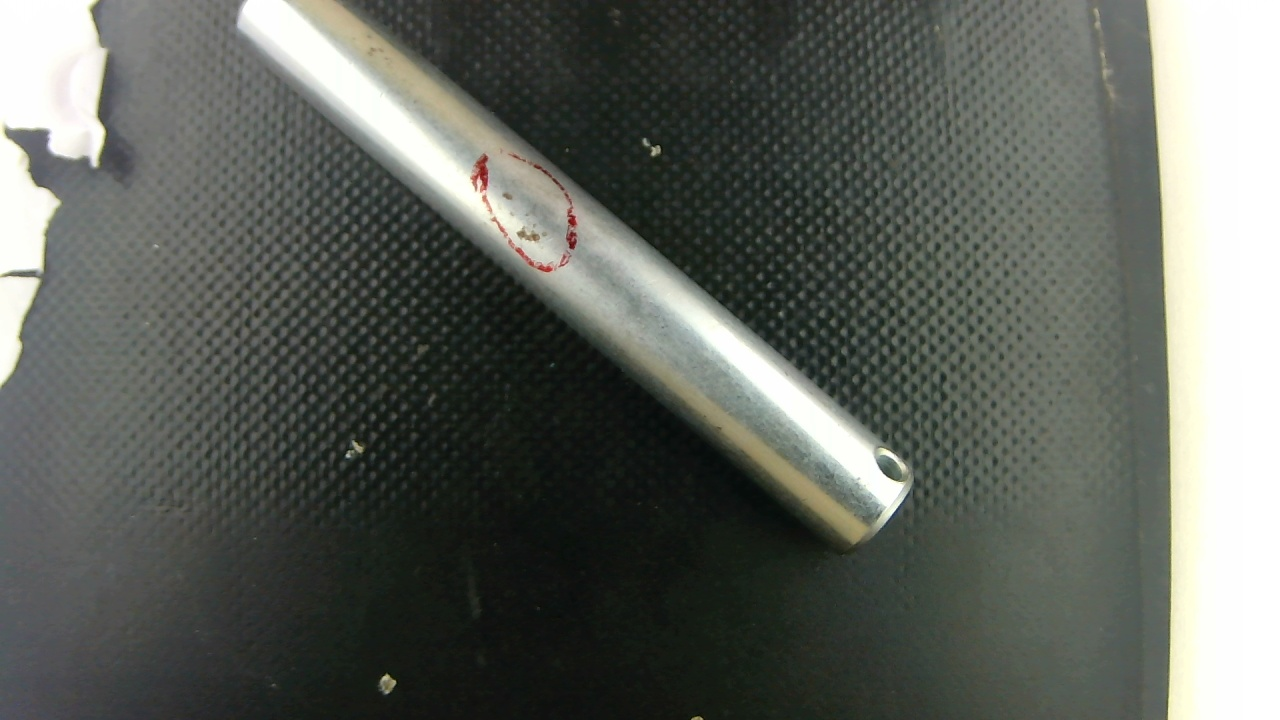rust_pin: (501, 186, 550, 246)
